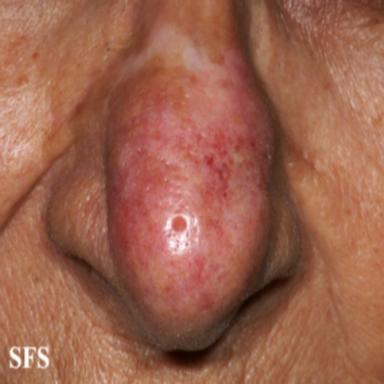Lupus-Erythematosus-Chronicus-Discoides: (109, 21, 275, 315)
